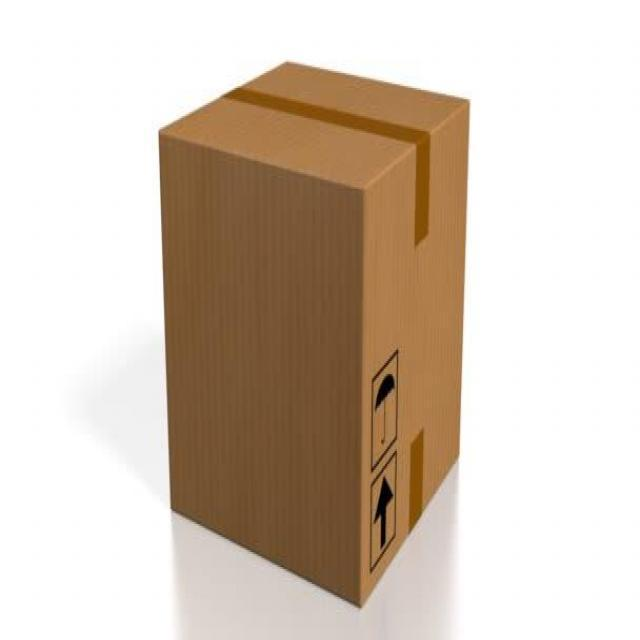box: (148, 43, 474, 612)
